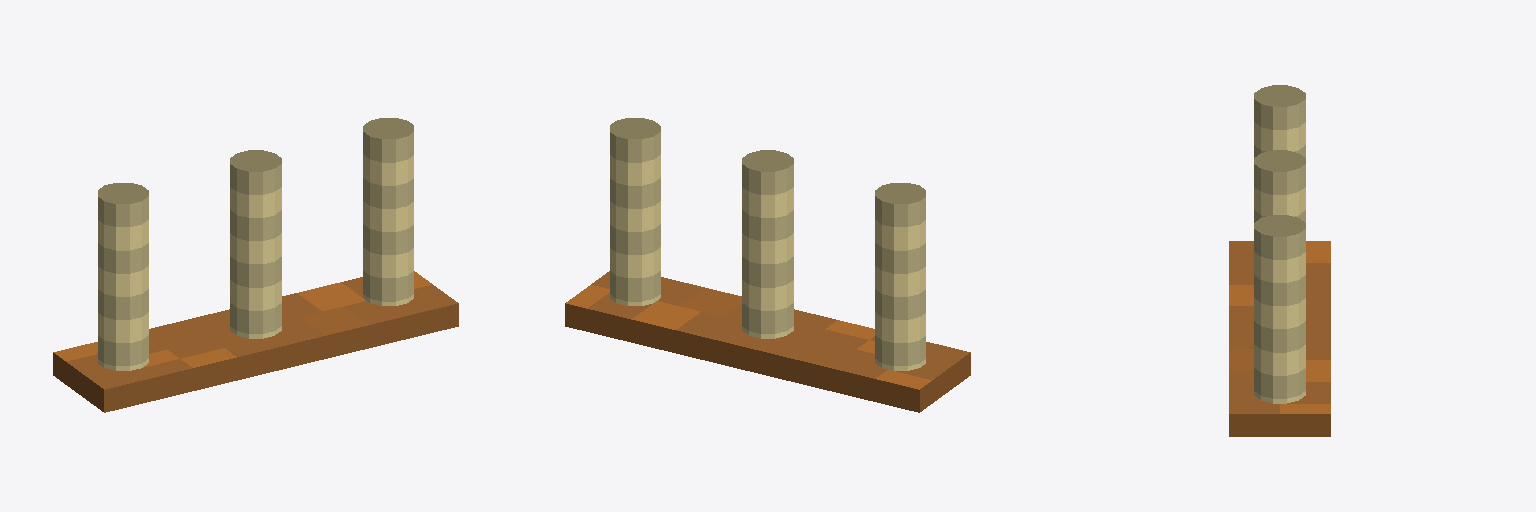
3 views of the same model, side by side, from view 1: azimuth 30°, elevation 25°; view 2: azimuth 150°, elevation 25°; view 3: azimuth 270°, elevation 25° (orthographic).
Parts seen in each view (by area): view 1: tube, cube; view 2: tube, cube; view 3: tube, cube.
Boxes of the visible parts, box(x1,y1,x2,y2) form: tube: box(98, 118, 413, 370); cube: box(53, 271, 458, 412); tube: box(610, 118, 925, 370); cube: box(565, 271, 970, 412); tube: box(1254, 85, 1305, 403); cube: box(1229, 241, 1330, 436).
Size of the model in its own units: 1 by 0.5125 by 0.25.
Materials: 1 (1 with a texture image).